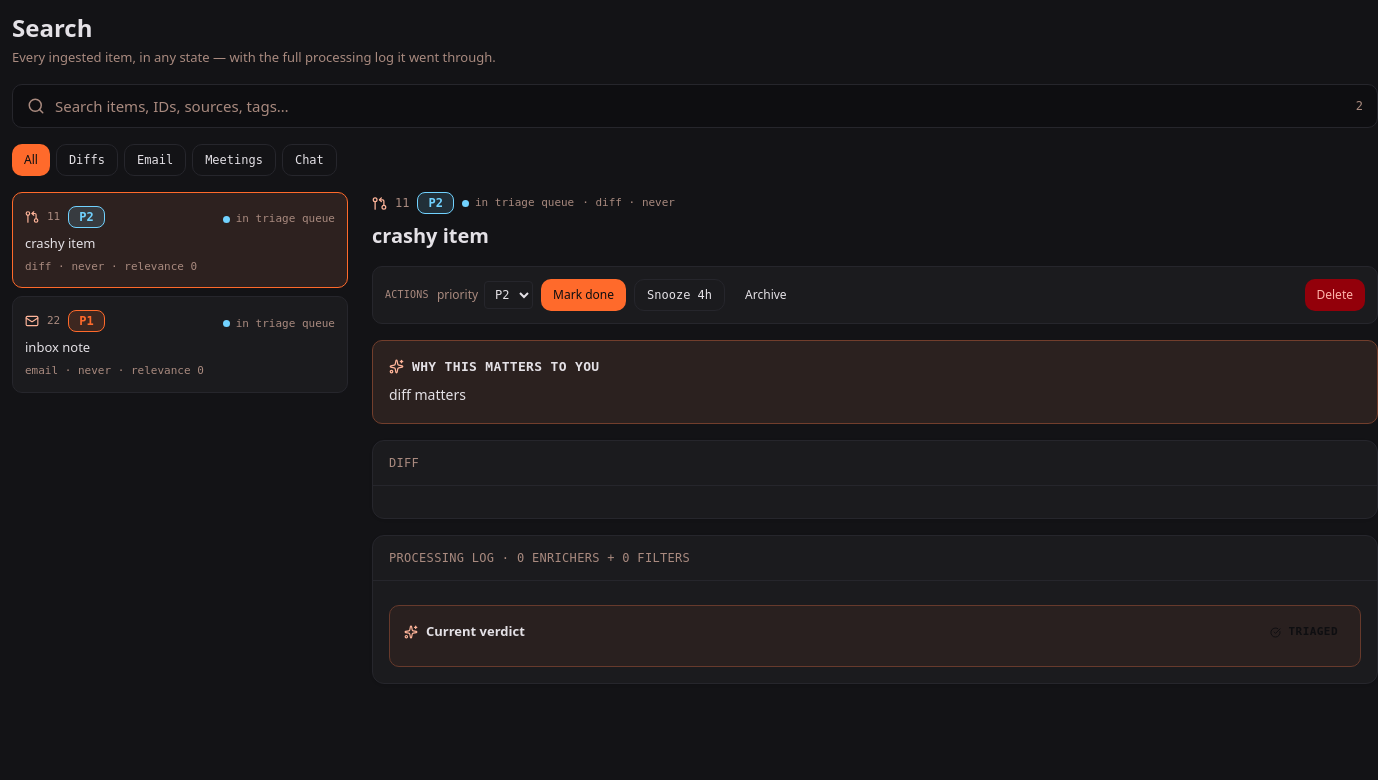
Test case: Search page › selecting a row swaps the detail inline, without opening a dialog
Expected: the text "diff matters" is shown, [389,385,466,404]
Note: Click the email row → selects it and swaps the detail.
Click the text "inbox note".
click(58, 347)  # box [25,338,90,356]
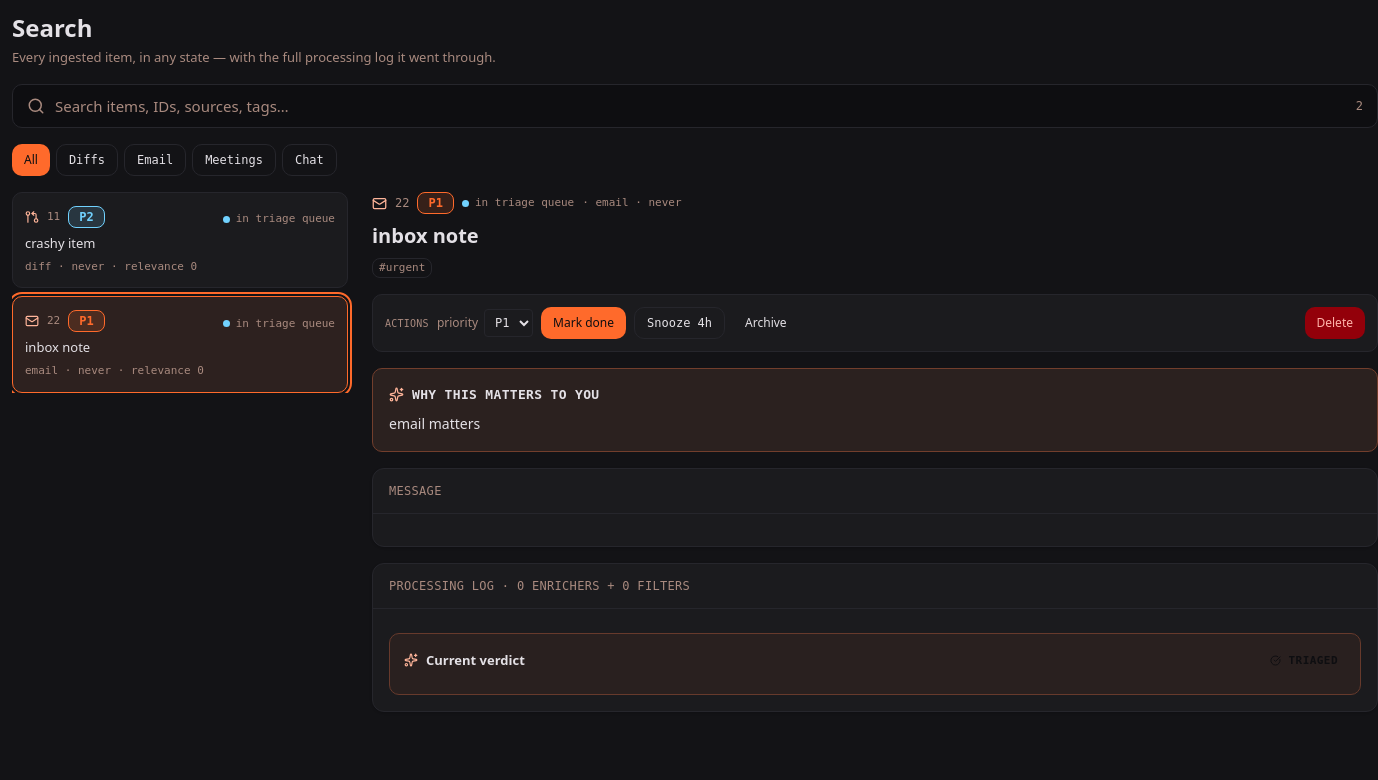
Expected: the text "email matters" is shown, [389,414,480,432]
